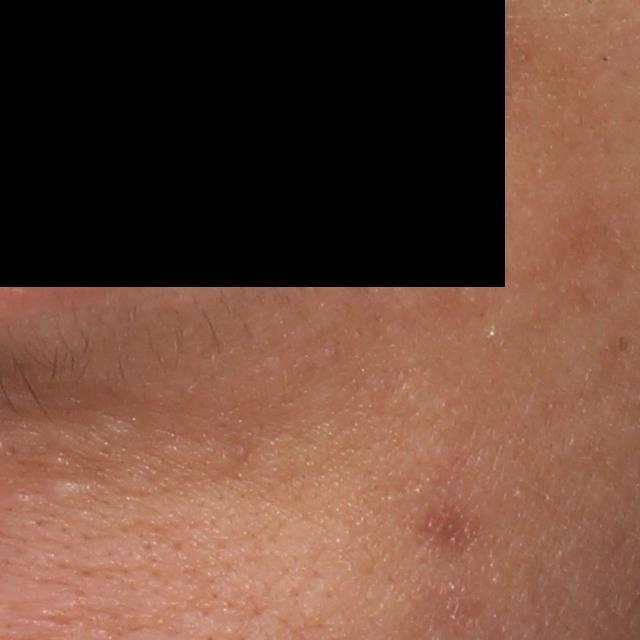hypertrophic_scar: (50, 478, 92, 503)
